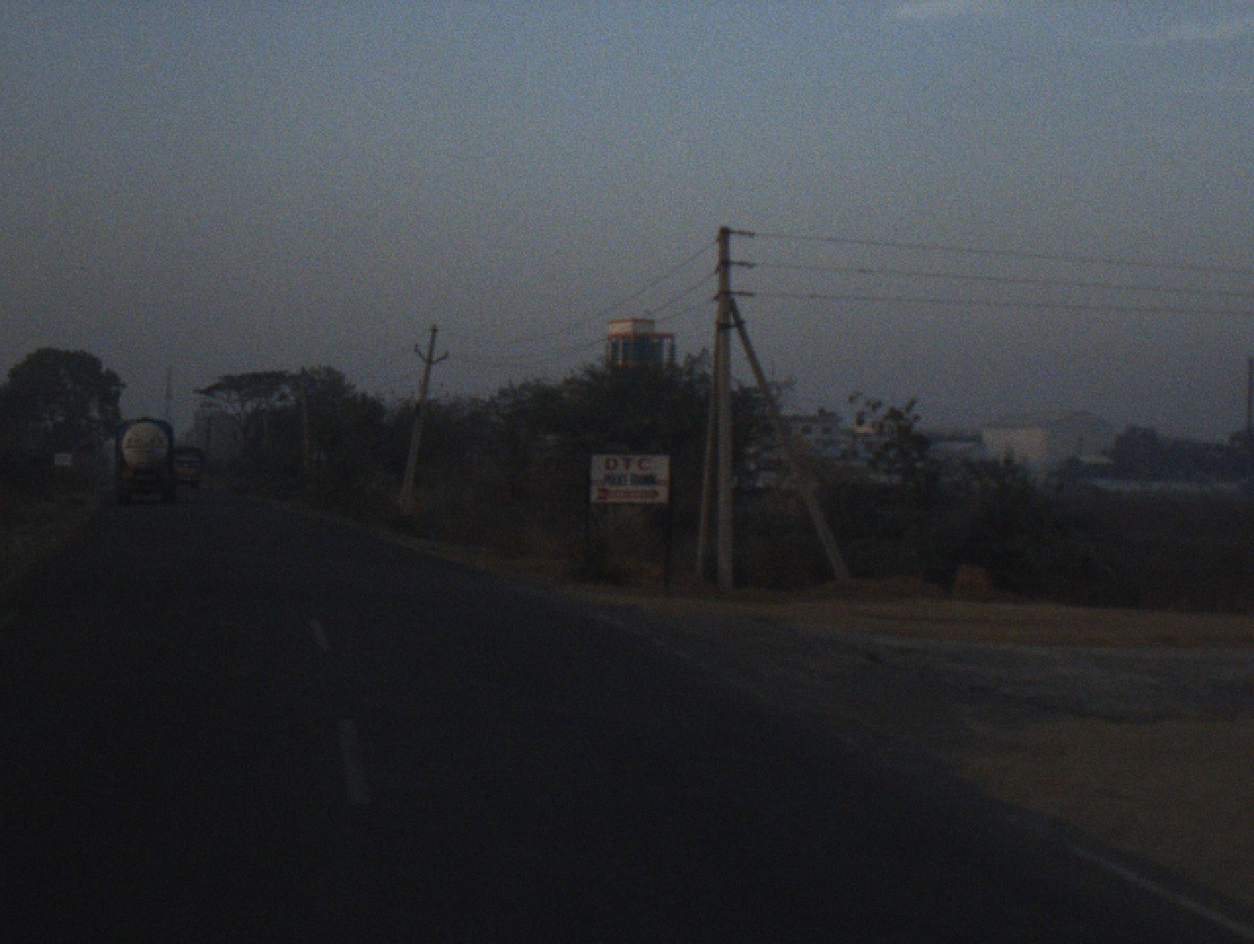truck: (106, 411, 186, 517), (163, 440, 208, 496)
